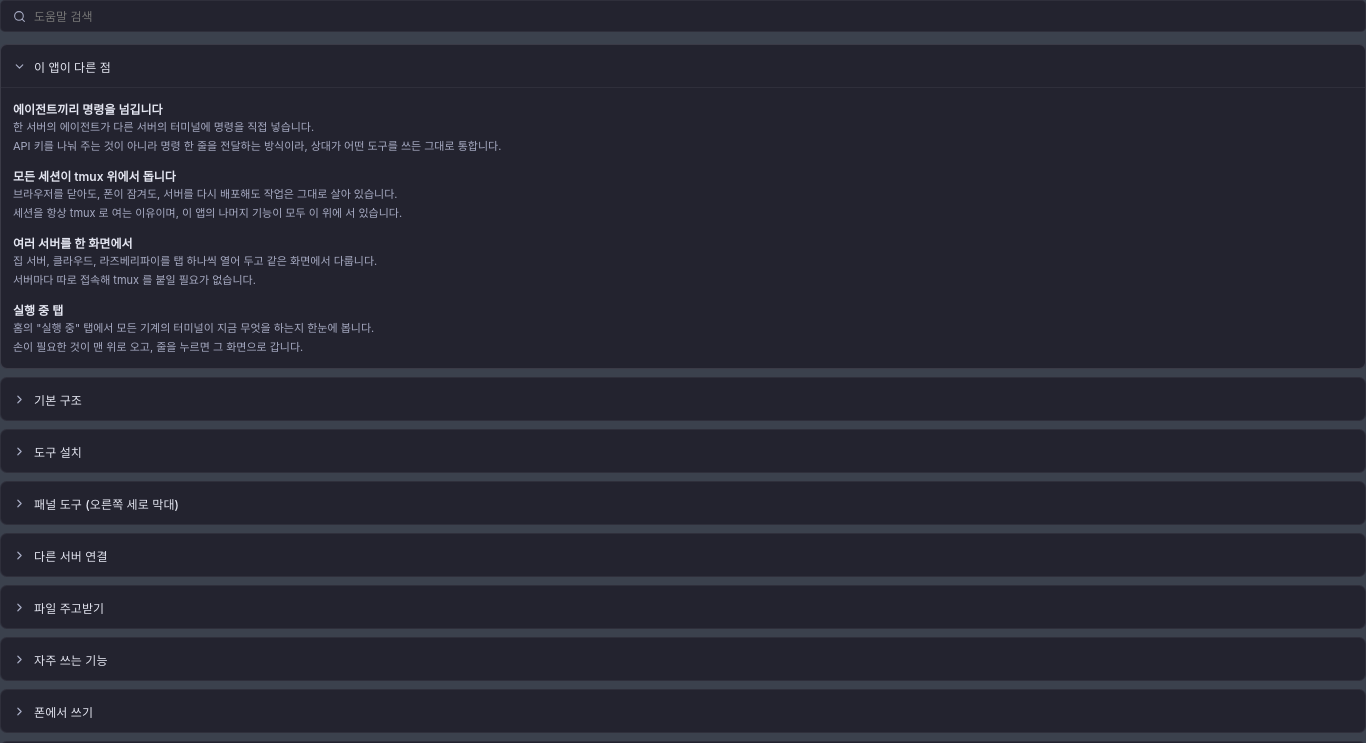
Test: HelpPanel › 검색은 설명 본문까지 훑는다 — 사람은 기능 이름을 모르는 채로 찾는다
Note: "재시작" 이라는 낱말은 helpReloadRestartTerm/Desc 에만 있다.
Type "재시작" into the field with placeholder "도움말 검색" at (694, 16), box [34,8,1353,24]
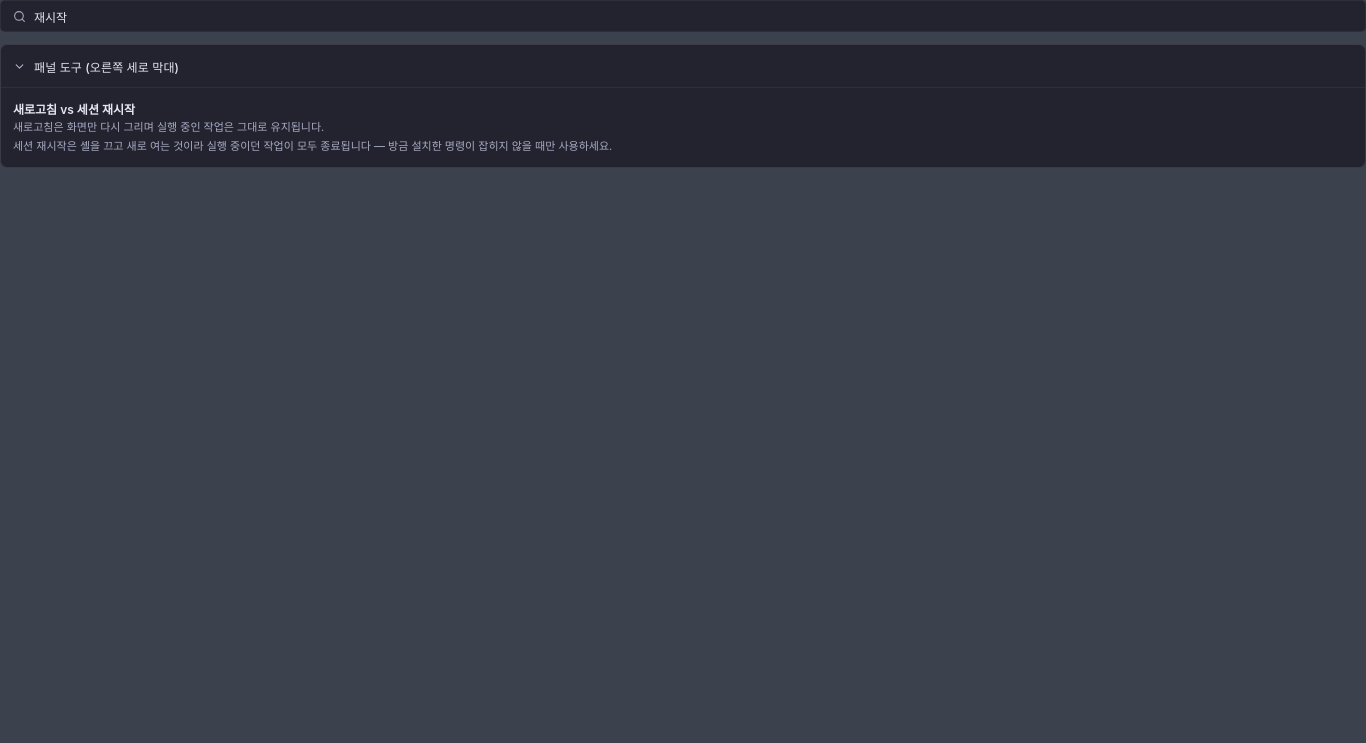
Expected: the text "새로고침 vs 세션 재시작" is shown, [13,102,135,117]
